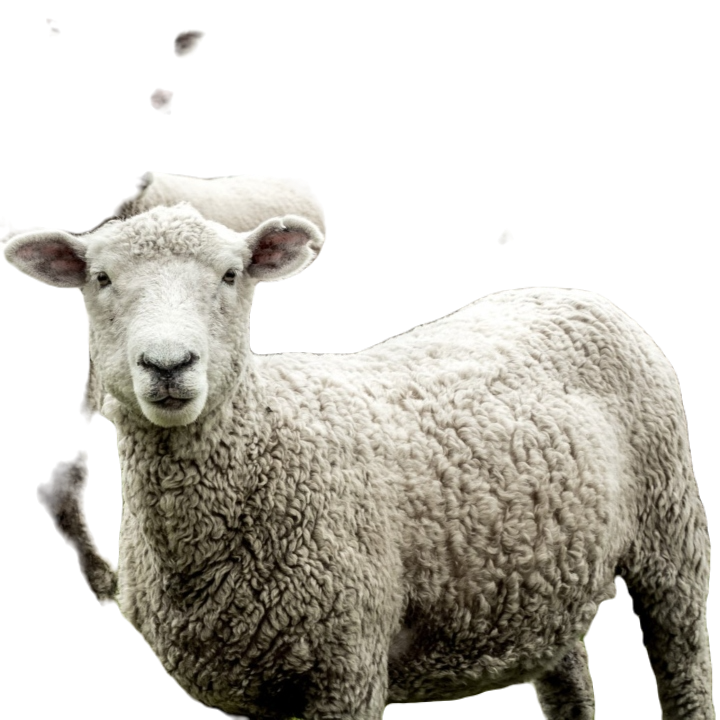Sheep: (1, 201, 719, 719)
